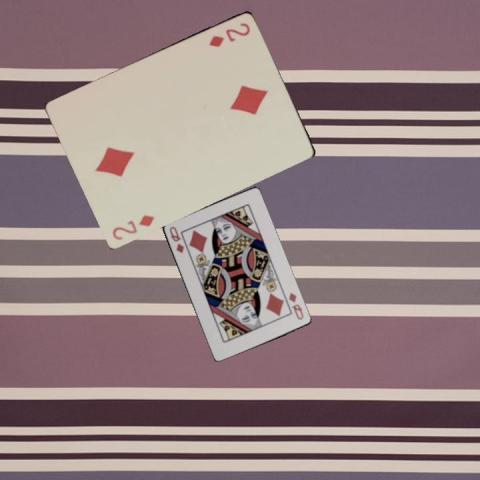2d: (109, 211, 156, 241), (206, 19, 252, 49)
Qd: (285, 290, 305, 322), (166, 223, 185, 255)
